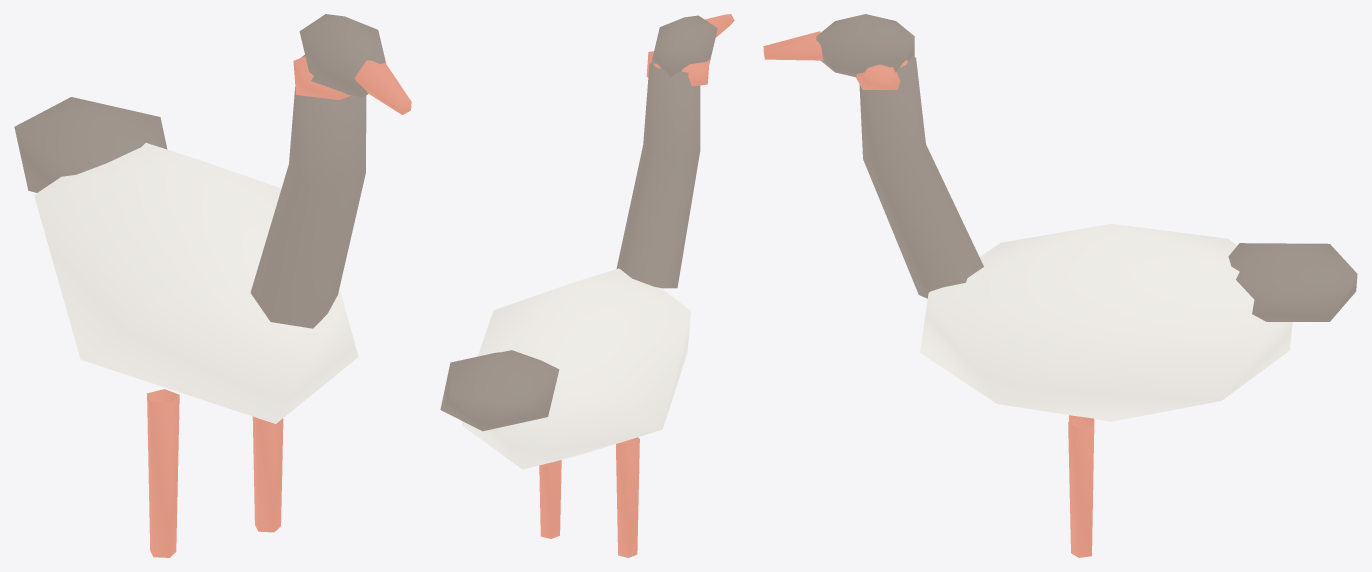
Rendered from Blender_Goose_1.glb.
The picture shows the model from 3 angles, left to right: view 1: azimuth 30°, elevation 25°; view 2: azimuth 150°, elevation 25°; view 3: azimuth 270°, elevation 25°; orthographic projection. The views are drawn at different scales.
Parts seen in each view (by area): view 1: Blender_Goose_1; view 2: Blender_Goose_1; view 3: Blender_Goose_1.
Part boxes in pixels (x1,y1,x2,y2): Blender_Goose_1: [14, 14, 411, 557]; Blender_Goose_1: [440, 14, 734, 557]; Blender_Goose_1: [763, 14, 1357, 557].
Bounding box in the file's own units: 0.306 × 0.79 × 0.8212.
